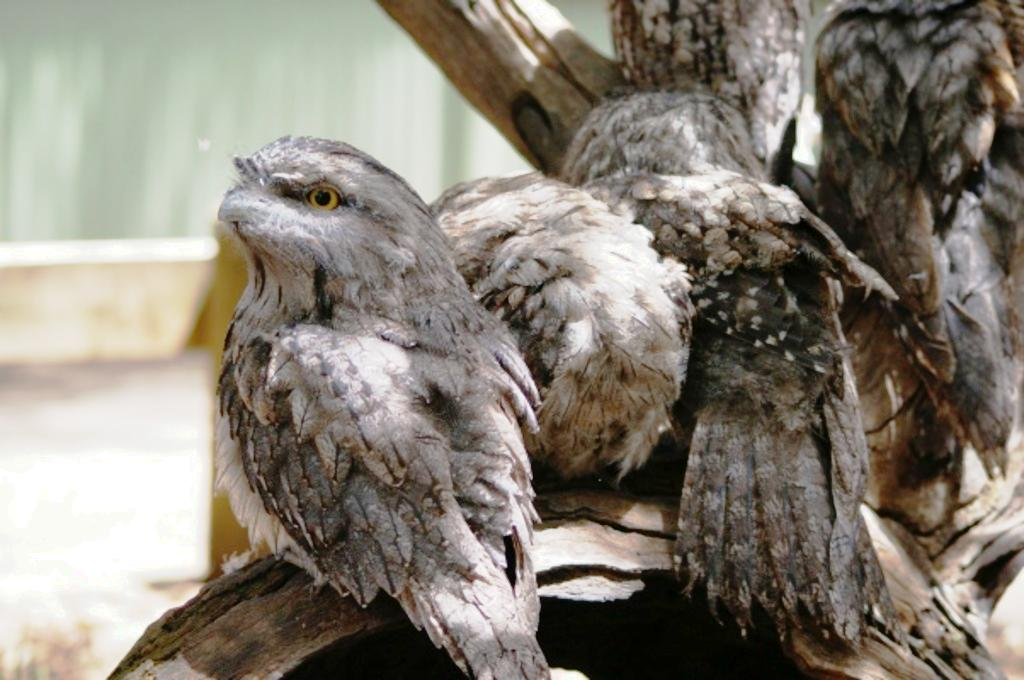Owl: (211, 131, 540, 680), (573, 86, 881, 639), (810, 0, 1023, 481), (409, 150, 692, 486), (606, 0, 803, 171)
